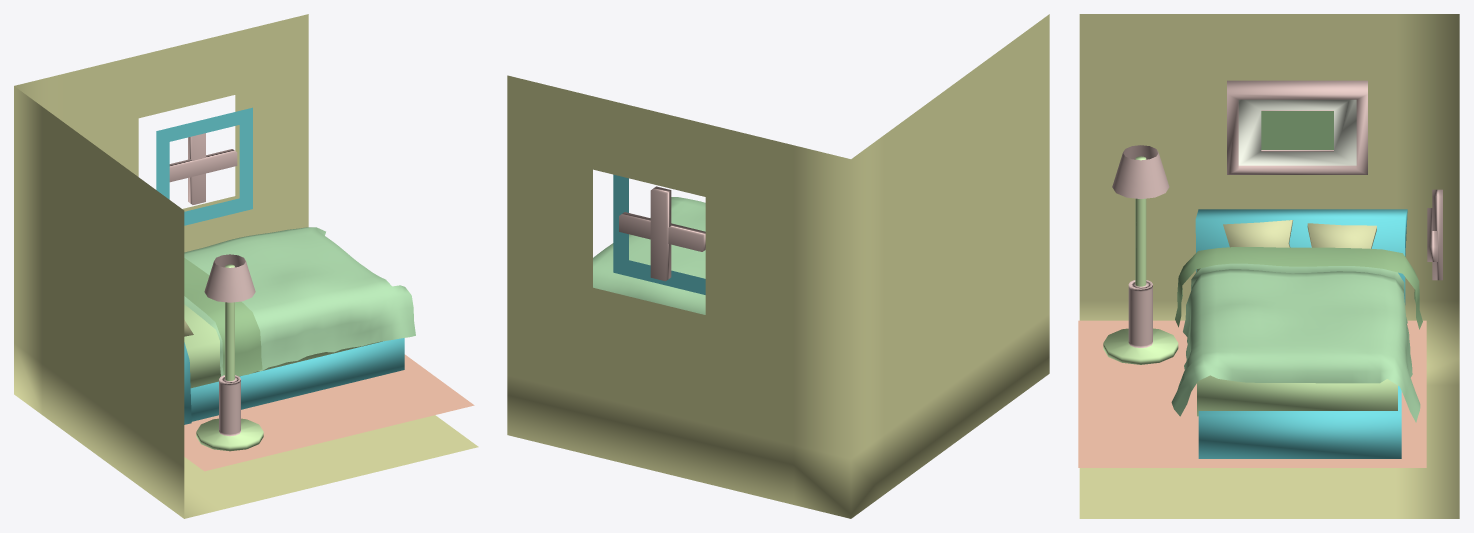
Rendered from bed3.glb.
The picture shows the model from 3 angles, left to right: view 1: azimuth 30°, elevation 25°; view 2: azimuth 150°, elevation 25°; view 3: azimuth 270°, elevation 25°; orthographic projection. The views are drawn at different scales.
Visible parts, largest first — view 1: Cube, Plane.001, Cube.001, Cube.002, Cube.007, Cylinder, Plane.002, Cube.008, Cylinder.001, Cube.004, Cube.009; view 2: Cube, Plane.001, Cube.007, Cube.009, Cube.004; view 3: Cube, Plane.001, Cube.001, Cube.010, Cube.002, Cube.008, Cube.003, Plane.002, Cylinder, Cube.011, Cylinder.001, Cube.006 (+3 smaller).
Boxes of the visible parts, left/top/right/bottom form: Cube: left=14, top=14, right=478, bottom=518; Plane.001: left=184, top=227, right=415, bottom=376; Cube.001: left=184, top=354, right=474, bottom=471; Cube.002: left=190, top=338, right=404, bottom=421; Cube.007: left=156, top=107, right=252, bottom=225; Cylinder: left=196, top=264, right=263, bottom=451; Plane.002: left=184, top=258, right=262, bottom=376; Cube.008: left=184, top=304, right=382, bottom=388; Cylinder.001: left=204, top=254, right=255, bottom=302; Cube.004: left=169, top=149, right=237, bottom=182; Cube.009: left=188, top=133, right=205, bottom=204; Cube: left=507, top=14, right=1049, bottom=518; Plane.001: left=593, top=197, right=705, bottom=314; Cube.007: left=613, top=174, right=705, bottom=294; Cube.009: left=650, top=186, right=671, bottom=281; Cube.004: left=619, top=212, right=705, bottom=251; Cube: left=1079, top=14, right=1459, bottom=518; Plane.001: left=1171, top=263, right=1420, bottom=422; Cube.001: left=1078, top=320, right=1426, bottom=467; Cube.010: left=1227, top=80, right=1367, bottom=174; Cube.002: left=1198, top=386, right=1401, bottom=458; Cube.008: left=1197, top=268, right=1397, bottom=416; Cube.003: left=1195, top=209, right=1407, bottom=304; Plane.002: left=1175, top=247, right=1422, bottom=329; Cylinder: left=1103, top=156, right=1178, bottom=364; Cube.011: left=1261, top=111, right=1333, bottom=149; Cylinder.001: left=1112, top=145, right=1169, bottom=198; Cube.006: left=1223, top=220, right=1292, bottom=247.
Size of what is drawn, in the model's own units: 2 by 2 by 2.01.
